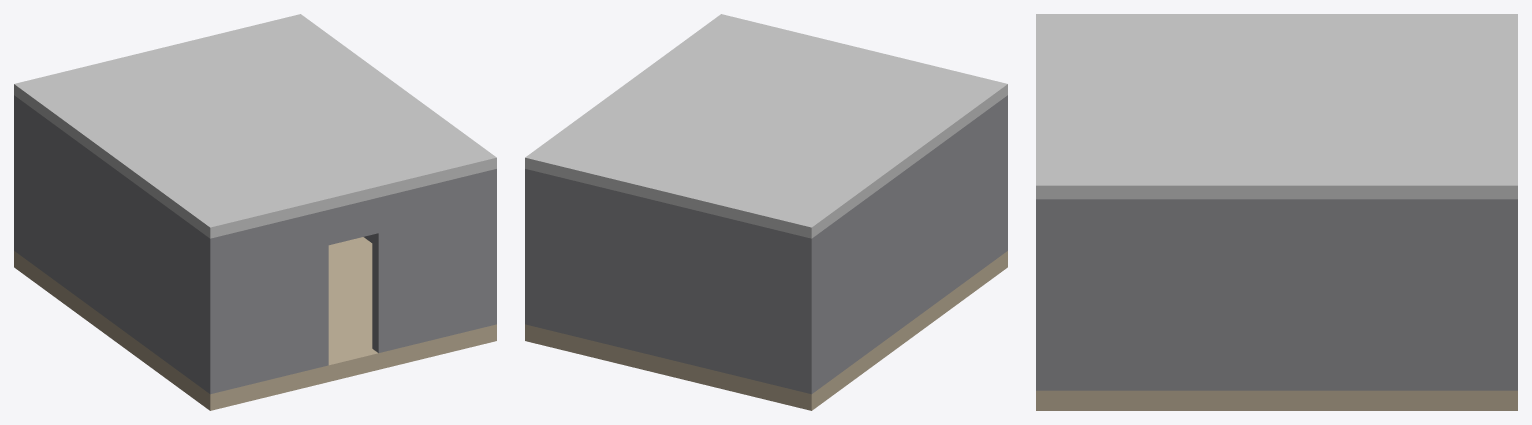
File: clue_room.glb
3 renders of one model, left to right at view 1: azimuth 30°, elevation 25°; view 2: azimuth 150°, elevation 25°; view 3: azimuth 270°, elevation 25°, orthographic. The views are drawn at different scales.
Visible parts, largest first — view 1: Room_Ceiling, Room_Wall_W_1, Room_Wall_S_1, Room_Wall_S_3, Room_Floor, Room_Wall_S_2, Room_Wall_N_1; view 2: Room_Ceiling, Room_Wall_N_1, Room_Wall_W_1, Room_Floor, Room_Wall_S_1; view 3: Room_Ceiling, Room_Wall_E_1, Room_Floor, Room_Wall_N_1, Room_Wall_S_3.
Boxes of the visible parts, x1,y1,x2,y2 form: Room_Ceiling: [14, 14, 496, 238]; Room_Wall_W_1: [20, 100, 203, 389]; Room_Wall_S_1: [204, 210, 328, 394]; Room_Wall_S_3: [372, 169, 496, 353]; Room_Floor: [14, 237, 496, 410]; Room_Wall_S_2: [328, 197, 378, 245]; Room_Wall_N_1: [14, 95, 19, 254]; Room_Ceiling: [525, 14, 1007, 238]; Room_Wall_N_1: [525, 169, 817, 394]; Room_Wall_W_1: [818, 100, 1001, 389]; Room_Floor: [525, 251, 1007, 410]; Room_Wall_S_1: [1002, 95, 1007, 254]; Room_Ceiling: [1036, 14, 1517, 199]; Room_Wall_E_1: [1051, 199, 1502, 390]; Room_Floor: [1036, 390, 1517, 410]; Room_Wall_N_1: [1503, 199, 1517, 390]; Room_Wall_S_3: [1036, 199, 1050, 390].
Bounding box in the file's own units: 5.4 × 3.3 × 6.4.
